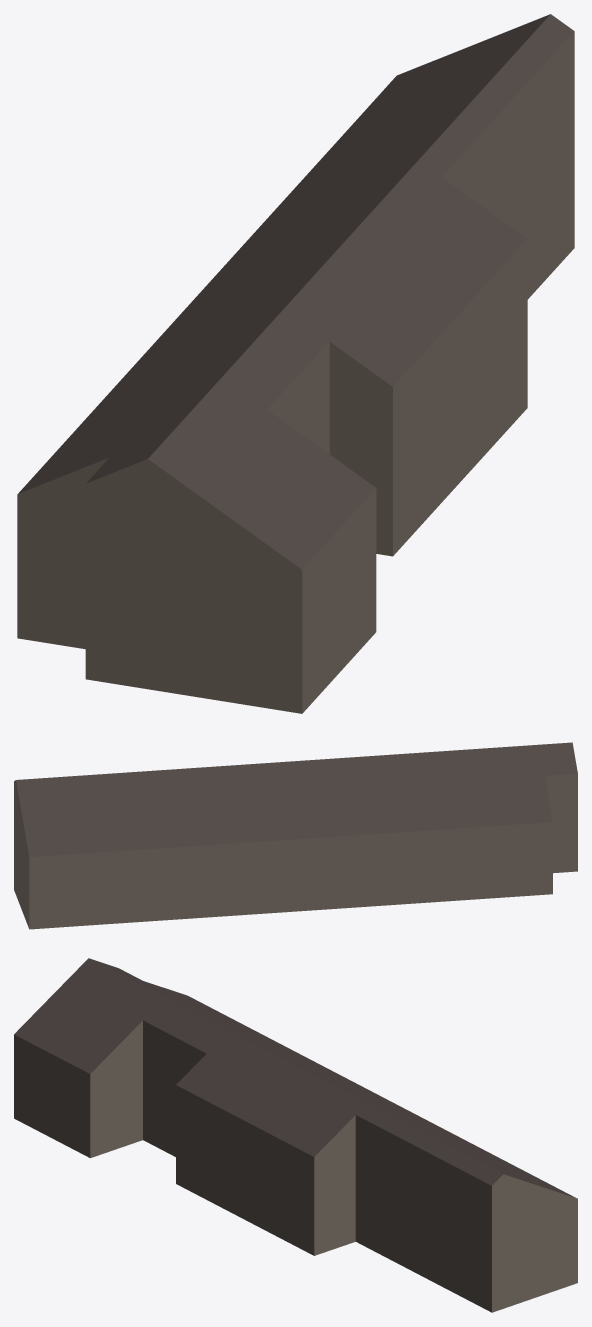
3 views of the same model, one above another, from view 1: azimuth 30°, elevation 25°; view 2: azimuth 150°, elevation 25°; view 3: azimuth 270°, elevation 25° (orthographic). The views are drawn at different scales.
Parts seen in each view (by area): view 1: HP-w1376988823; view 2: HP-w1376988823; view 3: HP-w1376988823.
Part boxes in pixels (x1,y1,x2,y2): HP-w1376988823: (17, 14, 574, 713); HP-w1376988823: (14, 742, 577, 929); HP-w1376988823: (14, 958, 577, 1312).
Size of the model in its own units: 35.64 by 9.59 by 36.44.
